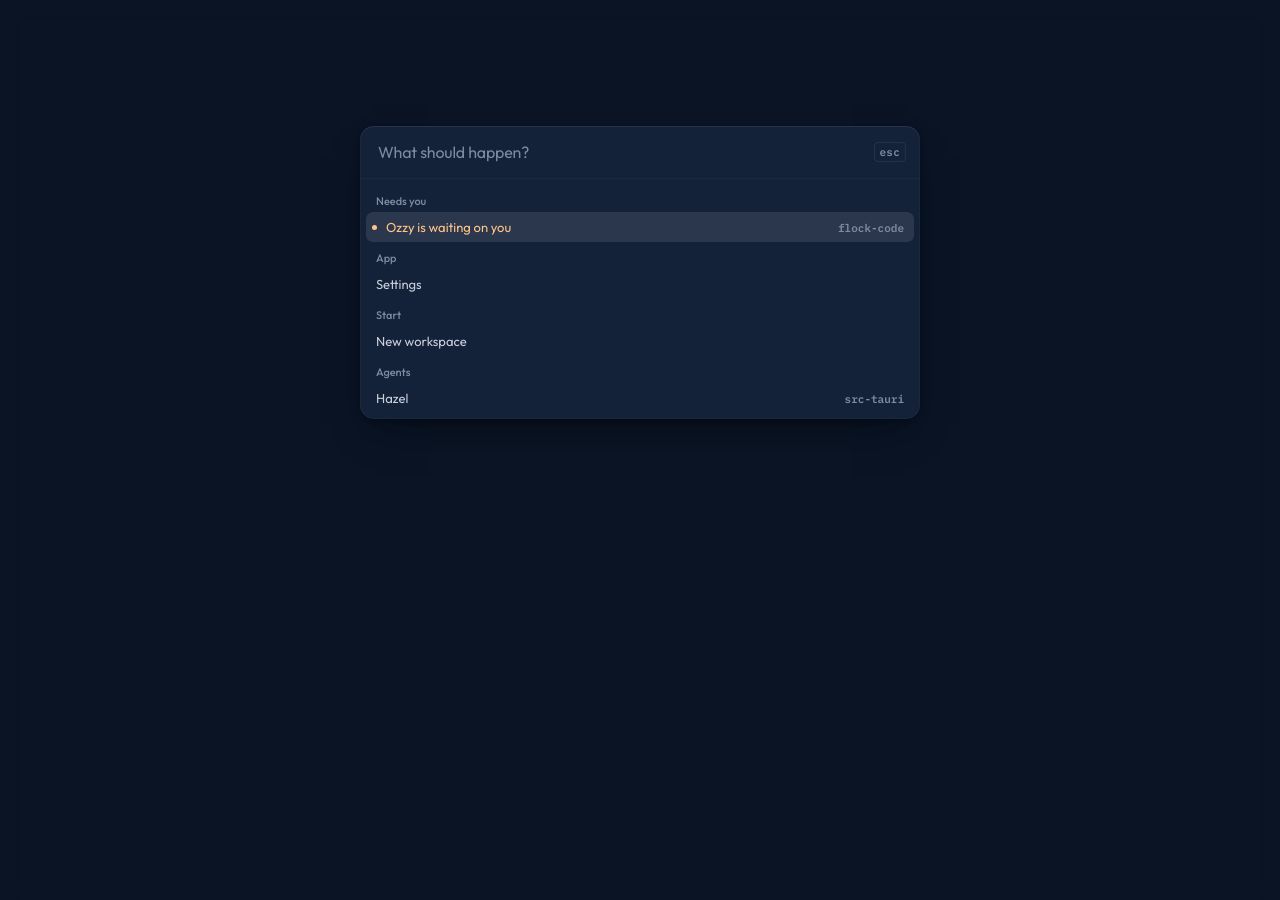
CommandBar › says so when nothing matches
Type "zzzzzz" into the field with placeholder "What should happen?" at [620, 152], box left=376, top=130, right=864, bottom=174
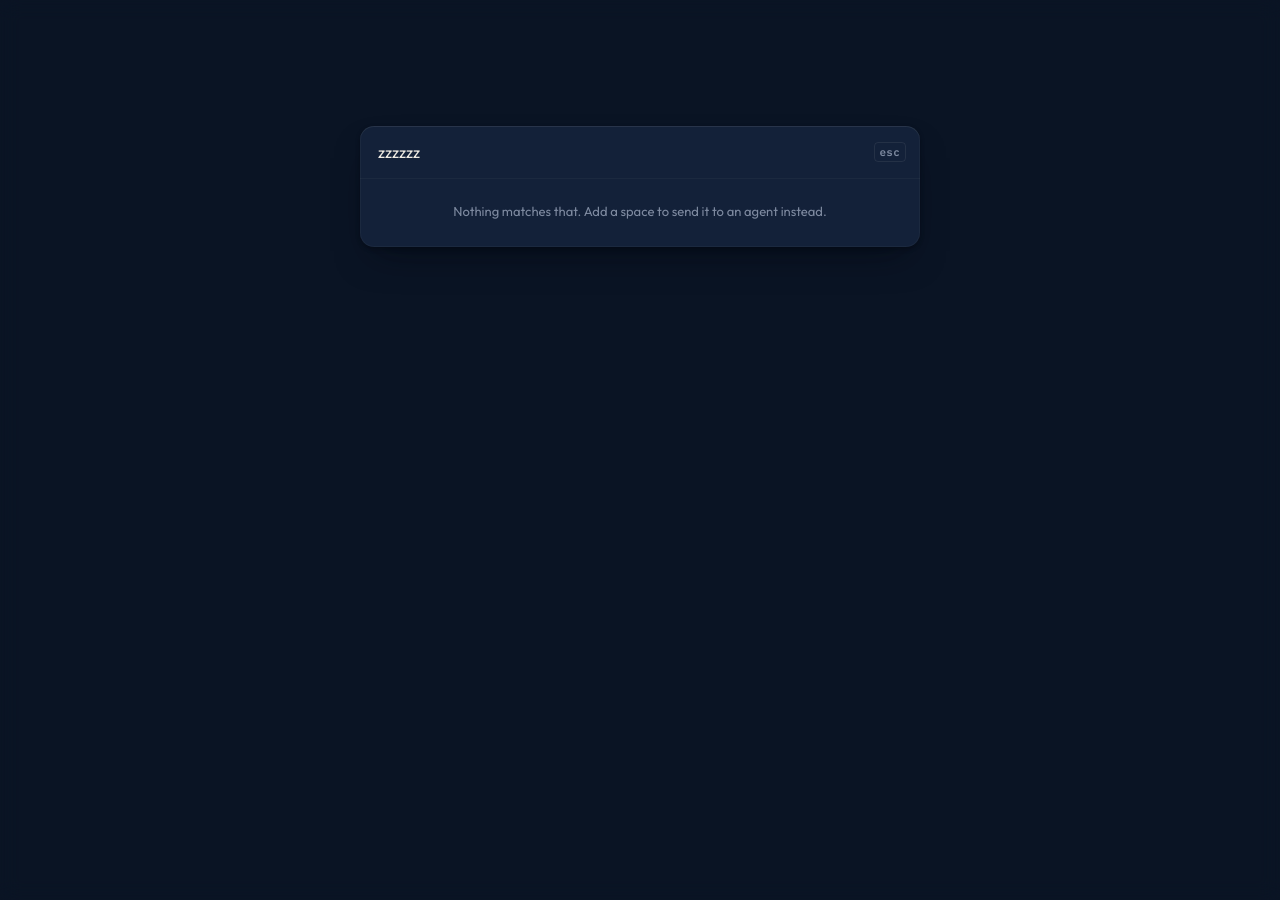
Check: the text "Nothing matches that" is shown, box left=453, top=203, right=827, bottom=219
